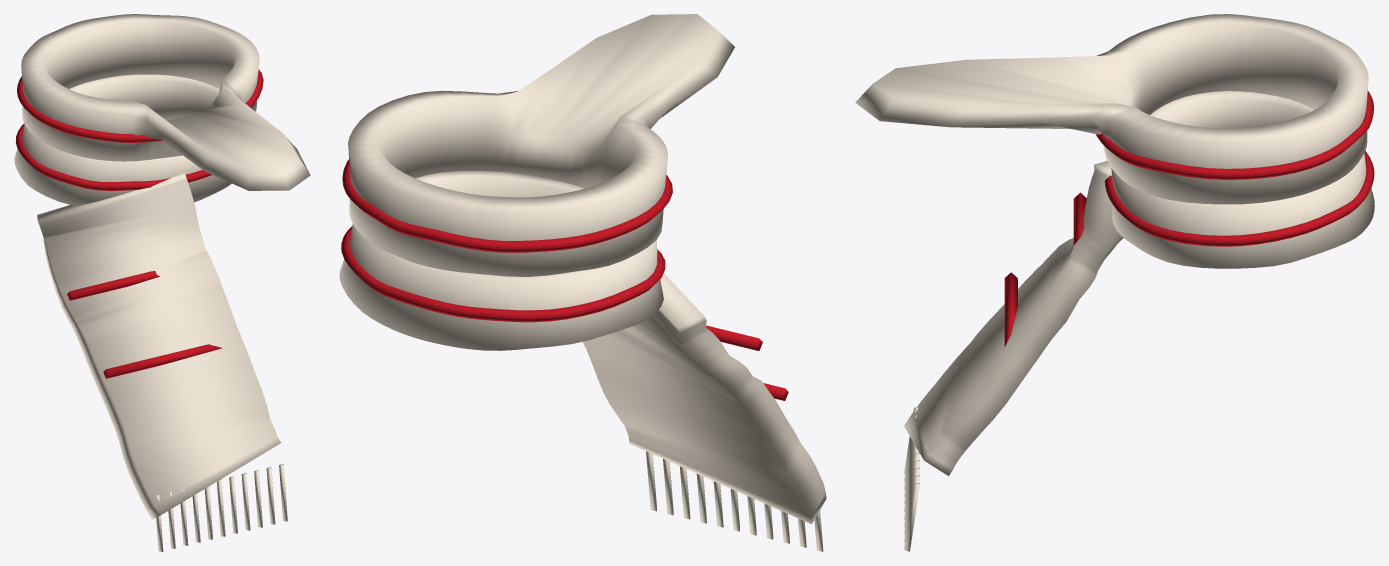
Rendered from short_scarf.glb.
3 renders of one model, left to right at view 1: azimuth 30°, elevation 25°; view 2: azimuth 150°, elevation 25°; view 3: azimuth 270°, elevation 25°, orthographic. The views are drawn at different scales.
Visible parts, largest first — view 1: short_scarf; view 2: short_scarf; view 3: short_scarf.
Part boxes in pixels (x1=…): short_scarf: x1=14, y1=14, x2=310, y2=551; short_scarf: x1=339, y1=14, x2=826, y2=551; short_scarf: x1=855, y1=14, x2=1374, y2=551.
Bounding box in the file's own units: 0.1036 × 0.1539 × 0.1565.
